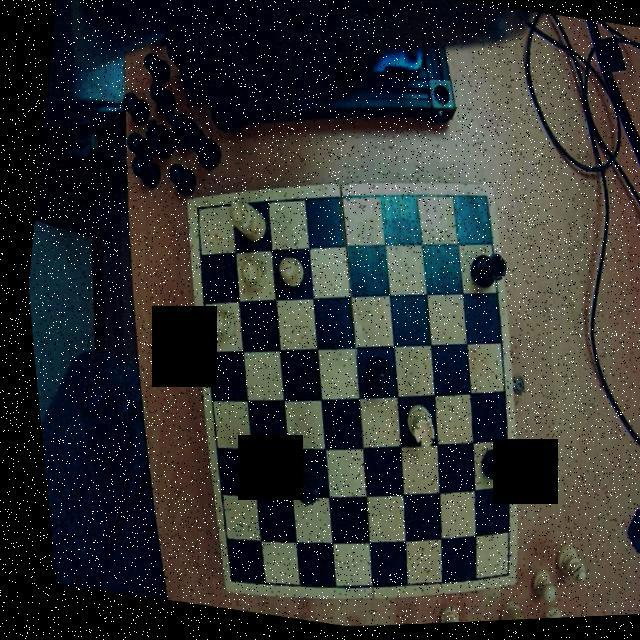chess-table-corners: (462, 188, 494, 220), (180, 195, 212, 226), (206, 564, 234, 598), (478, 566, 506, 594)
